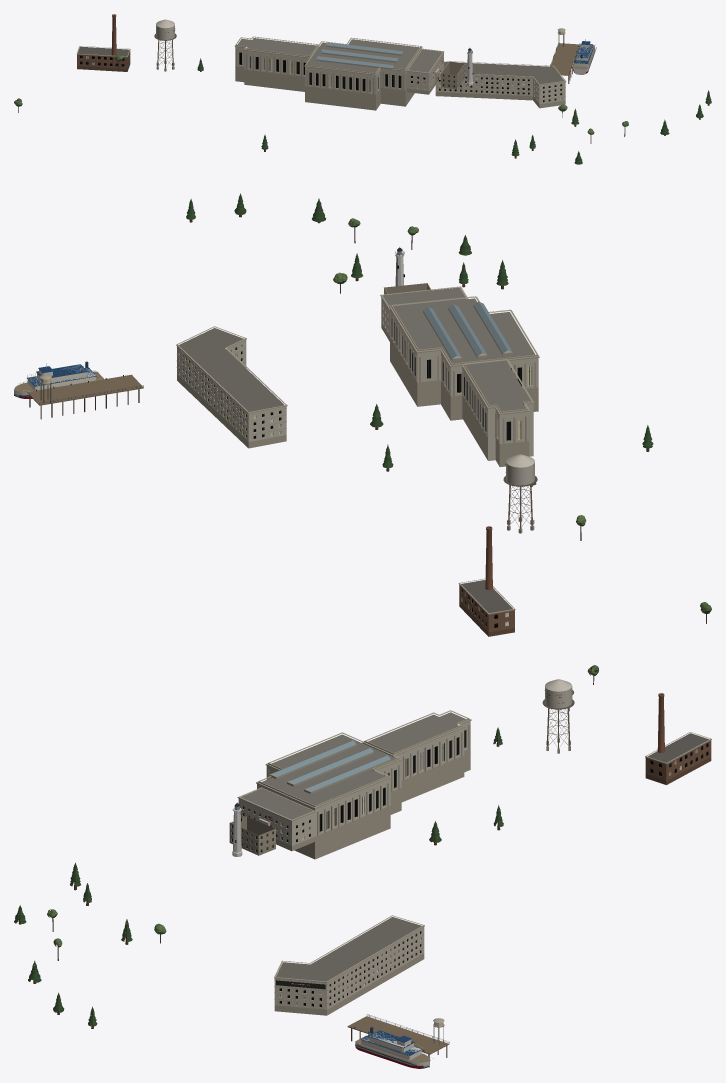
File: alcatraz_lod0.glb
3 views of the same model, one above another, from view 1: azimuth 30°, elevation 25°; view 2: azimuth 150°, elevation 25°; view 3: azimuth 270°, elevation 25° (orthographic). The views are drawn at different scales.
Visible parts, largest first — view 1: L0_concrete, L0_roof, L0_win, L0_metal, L0_brickred, L0_glassc, L0_leaf, L0_paint, L0_wood, L0_stucco; view 2: L0_concrete, L0_roof, L0_leaf, L0_wood, L0_metal, L0_paint, L0_glassc, L0_brickred, L0_win; view 3: L0_concrete, L0_roof, L0_paint, L0_win, L0_metal, L0_leaf, L0_brickred, L0_glassc, L0_wood, L0_stucco.
Part boxes in pixels (<box>): L0_concrete: <box>76,28,566,110</box>; L0_roof: <box>77,38,564,84</box>; L0_win: <box>80,31,564,102</box>; L0_metal: <box>81,33,585,100</box>; L0_brickred: <box>77,14,130,71</box>; L0_glassc: <box>317,42,471,68</box>; L0_leaf: <box>14,55,711,164</box>; L0_paint: <box>156,19,596,74</box>; L0_wood: <box>437,43,595,83</box>; L0_stucco: <box>441,61,465,89</box>; L0_concrete: <box>40,253,539,614</box>; L0_roof: <box>179,287,534,612</box>; L0_leaf: <box>186,193,711,613</box>; L0_wood: <box>14,371,143,419</box>; L0_metal: <box>36,247,537,624</box>; L0_paint: <box>14,361,534,485</box>; L0_glassc: <box>397,251,512,358</box>; L0_brickred: <box>459,526,514,636</box>; L0_win: <box>41,265,531,627</box>; L0_concrete: <box>232,710,711,1027</box>; L0_roof: <box>241,712,709,981</box>; L0_paint: <box>263,679,572,1068</box>; L0_win: <box>235,730,708,1026</box>; L0_metal: <box>234,699,702,1051</box>; L0_leaf: <box>14,665,598,1026</box>; L0_brickred: <box>645,693,711,784</box>; L0_glassc: <box>234,740,390,810</box>; L0_wood: <box>347,1016,449,1066</box>; L0_stucco: <box>229,816,275,855</box>.
Bounding box in the file's own units: 391 × 71.5 × 318.
